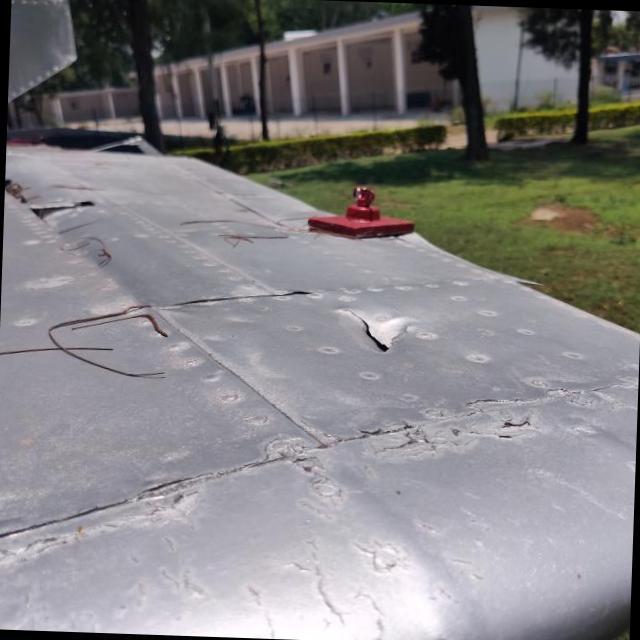Crack: (341, 308, 416, 351)
